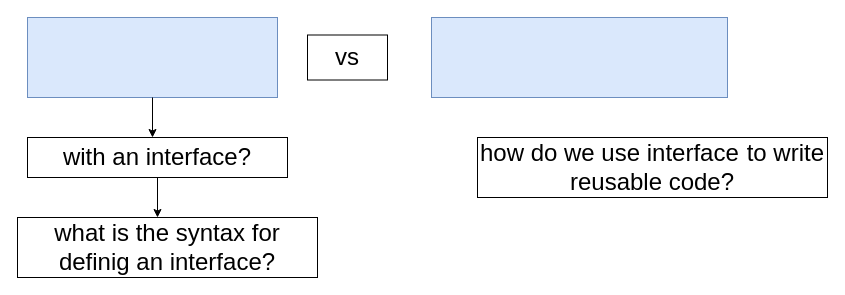
Some shapes in this 845 by 295 pixel diagram are drawn without their labels. Each missing label, with the centre of its shape:
"Design patterns with ts" goes at (x=579, y=57).
"syntaxe + features" goes at (x=152, y=57).
